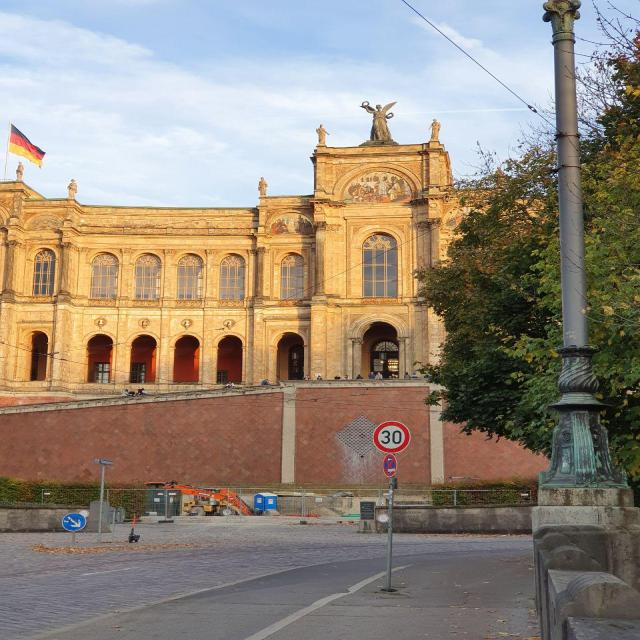road sign: (384, 482, 393, 592)
